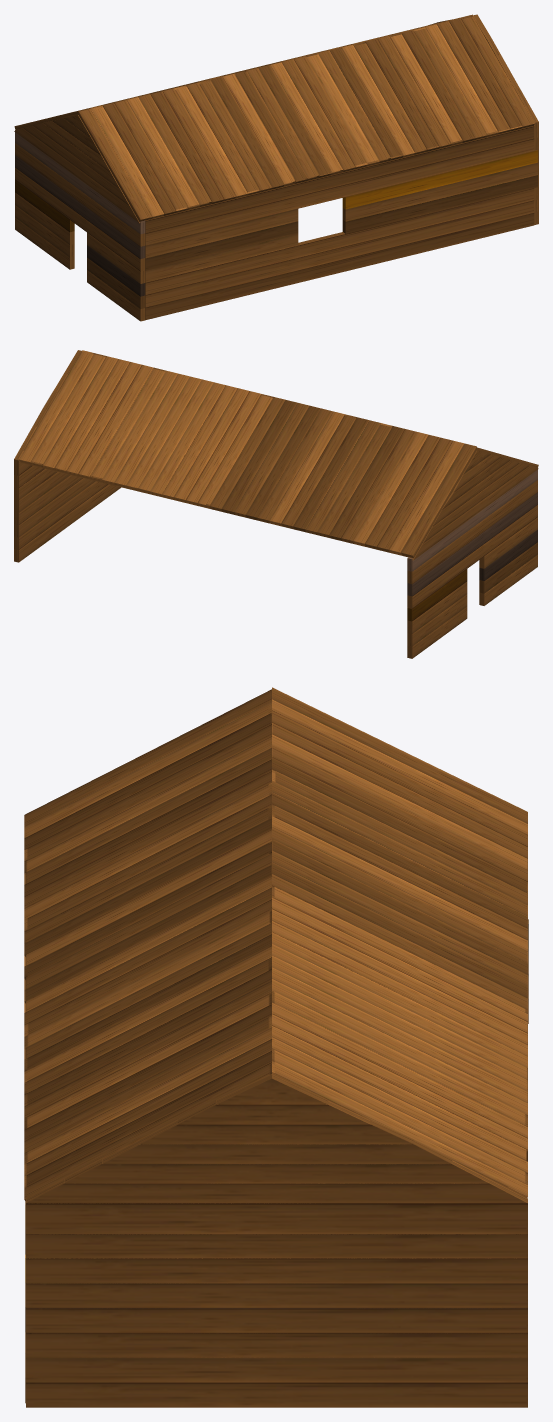
Rendered from House.fbx.
3 views of the same model, one above another, from view 1: azimuth 30°, elevation 25°; view 2: azimuth 150°, elevation 25°; view 3: azimuth 270°, elevation 25° (orthographic). The views are drawn at different scales.
Visible parts, largest first — view 1: House; view 2: House; view 3: House.
Part boxes in pixels (box(x1,y1,x2,y2)): House: box(14, 14, 538, 321); House: box(14, 350, 538, 658); House: box(24, 687, 528, 1407).
Bounding box in the file's own units: 6661 × 2633 × 3629.
